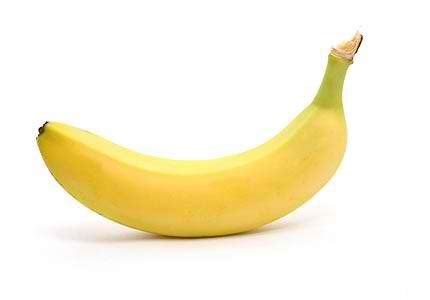banana: (30, 89, 352, 241)
